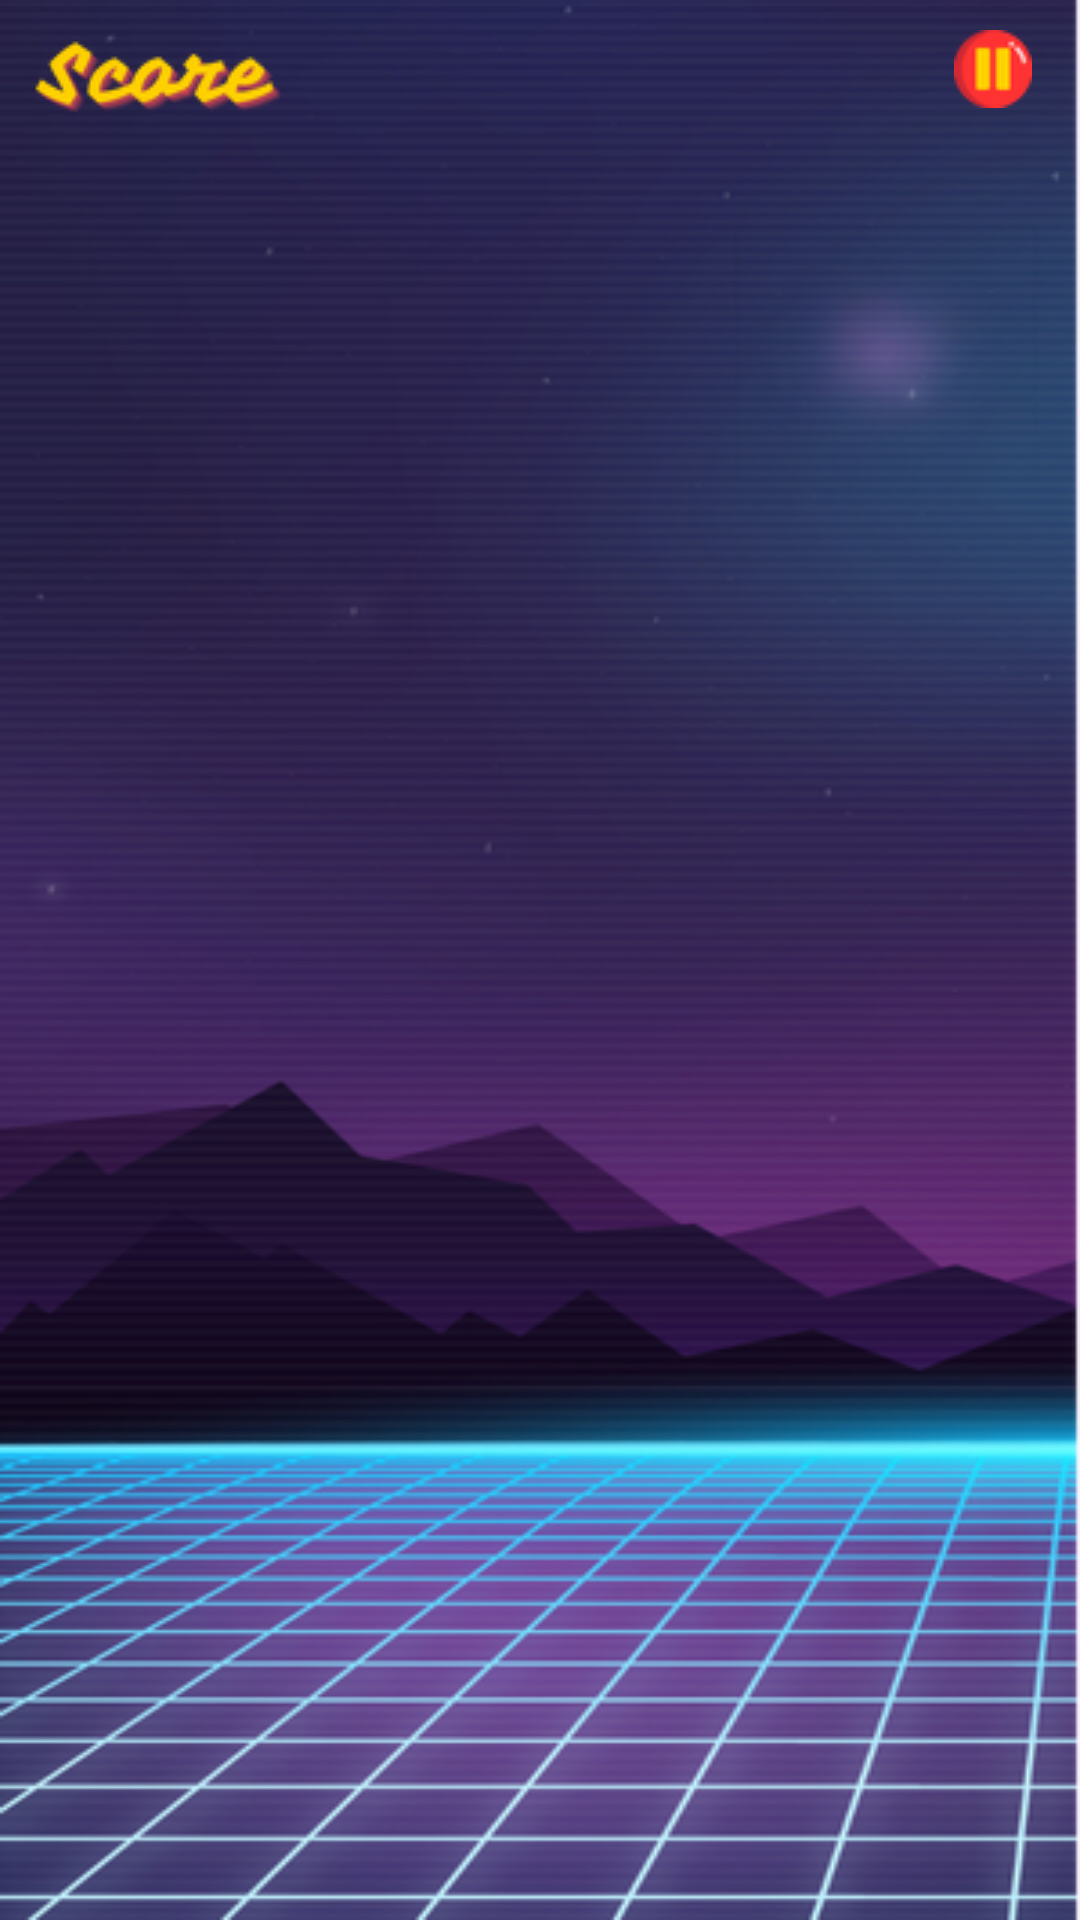

Named icons in this screenshot (1080x1920) and their centers, [x,y]:
pause: [993,69]
